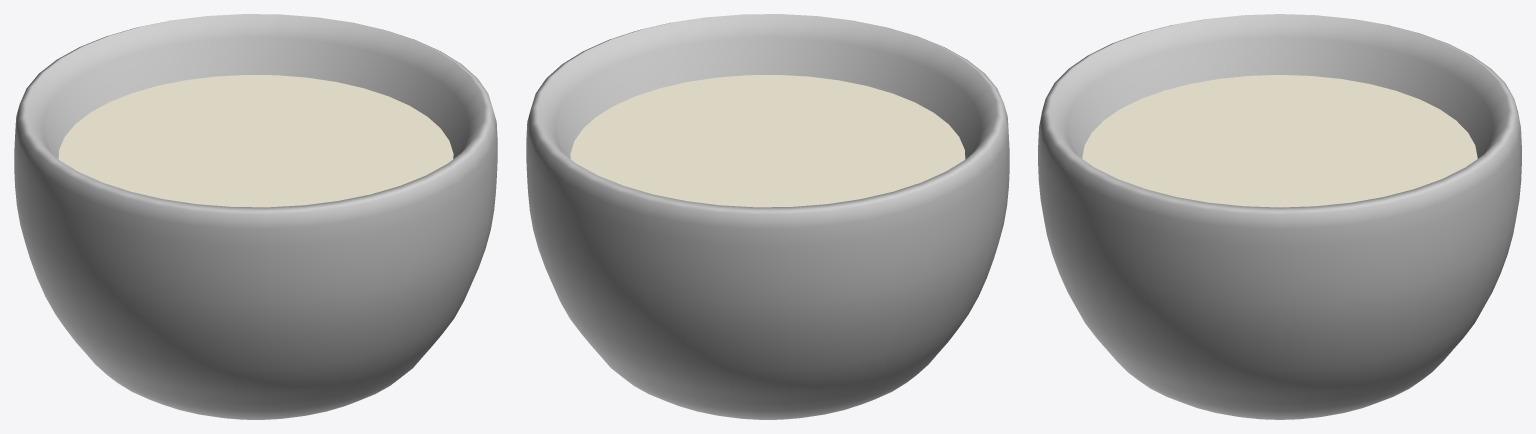
The model's file is Bowl with Milk.fbx.
3 views of the same model, side by side, from view 1: azimuth 30°, elevation 25°; view 2: azimuth 150°, elevation 25°; view 3: azimuth 270°, elevation 25° (orthographic).
Parts seen in each view (by area): view 1: Bowl1, pCylinder5; view 2: Bowl1, pCylinder5; view 3: Bowl1, pCylinder5.
Part boxes in pixels (bbox=[...]): Bowl1: bbox=[14, 14, 497, 419]; pCylinder5: bbox=[58, 75, 453, 207]; Bowl1: bbox=[526, 14, 1009, 419]; pCylinder5: bbox=[570, 75, 965, 207]; Bowl1: bbox=[1038, 14, 1521, 419]; pCylinder5: bbox=[1082, 75, 1477, 207].
Bounding box in the file's own units: 12 × 7.34 × 12.
